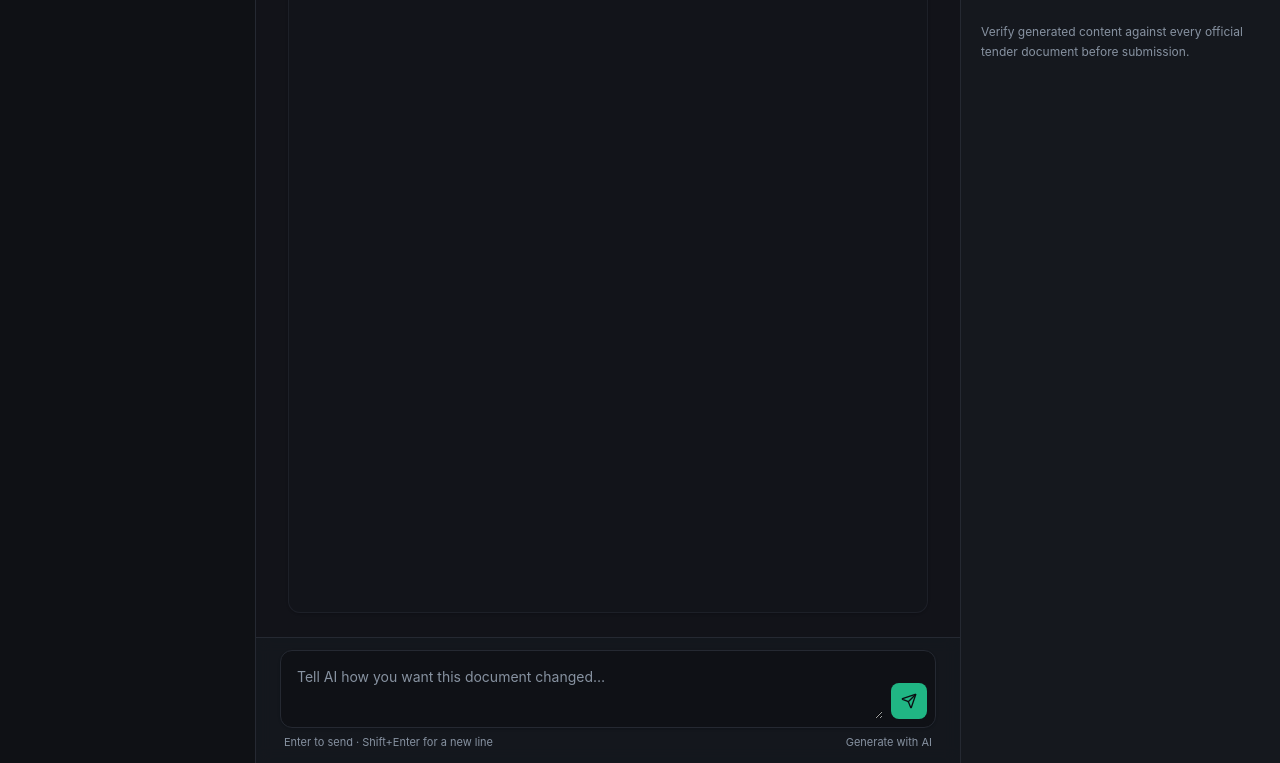
DraftStage › keeps selection by key when a generation refresh reorders and adds documents
(page scrolled)
Click the button named "Send AI instruction": (909, 701) [891,683,927,719]
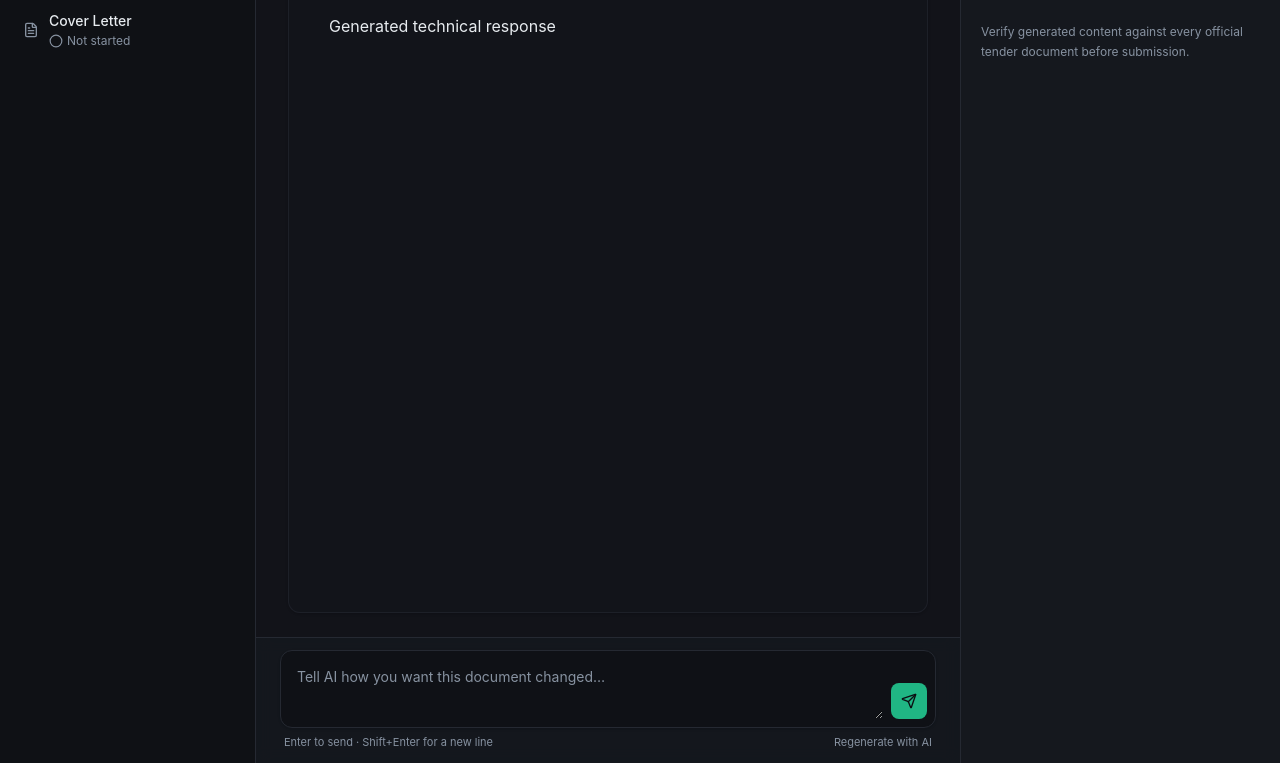
Result: the field named "Edit Technical Proposal" reads "Generated technical response" at [329,16,556,36]
